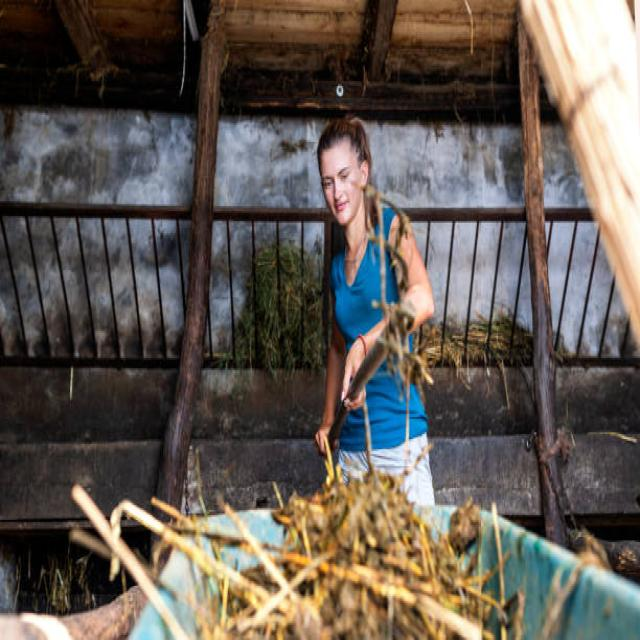trash: (199, 510, 603, 640)
